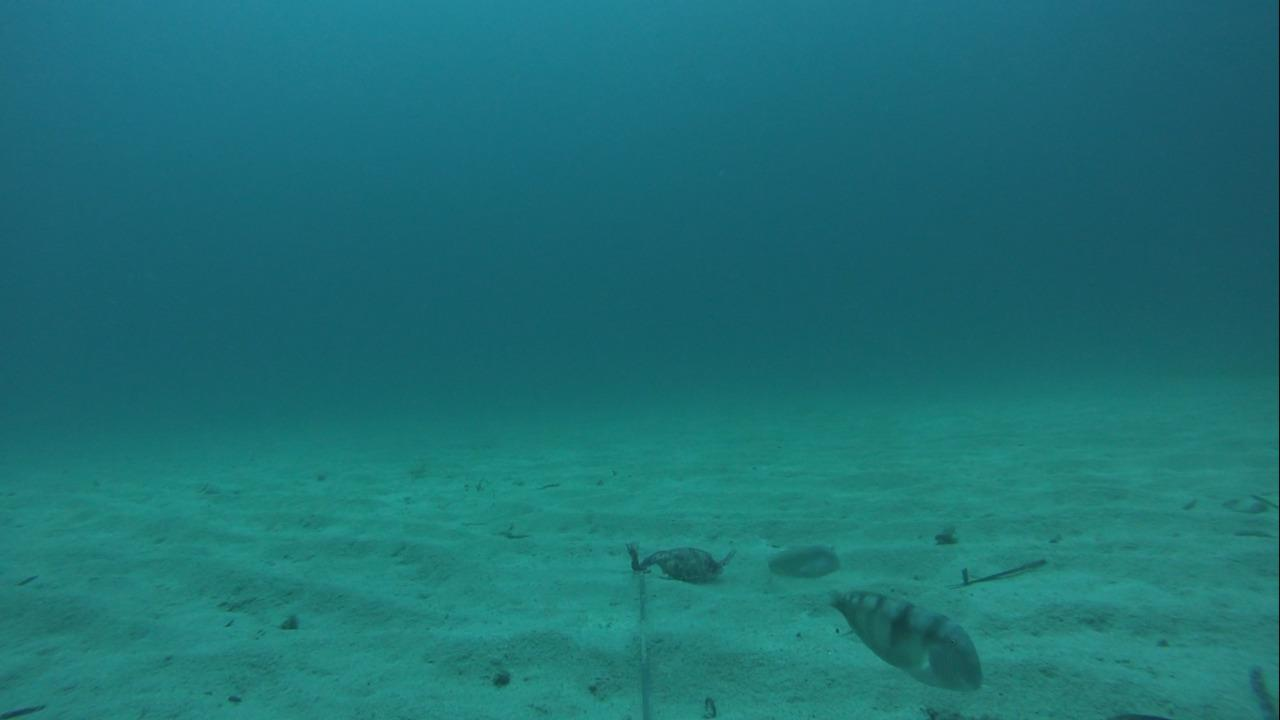raor: (823, 582, 985, 694), (756, 542, 841, 580)
